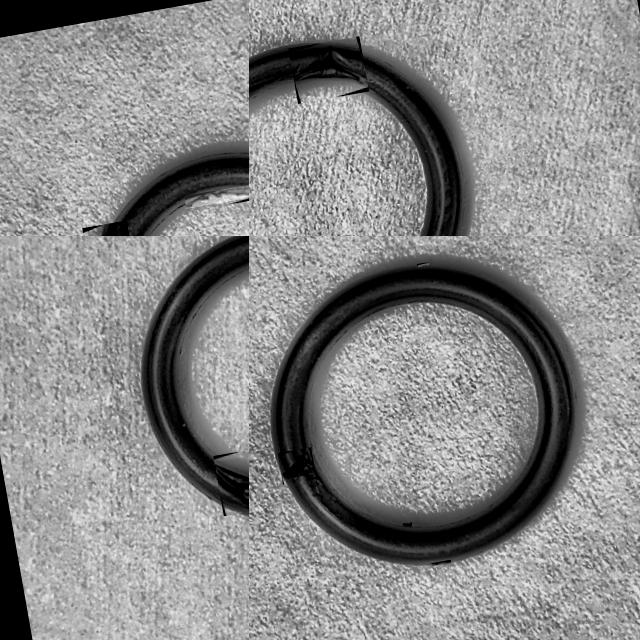侧边压痕: (432, 561, 450, 565), (418, 263, 428, 266)
切割缺陷: (293, 42, 367, 88), (214, 462, 249, 511), (280, 448, 315, 483)
裂纹: (186, 187, 249, 208), (403, 523, 411, 526)
